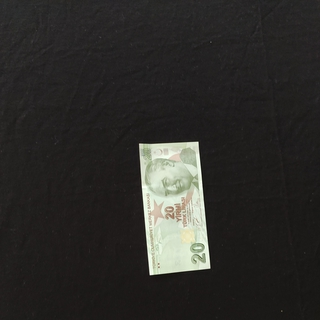20TLFront: (138, 141, 211, 275)
